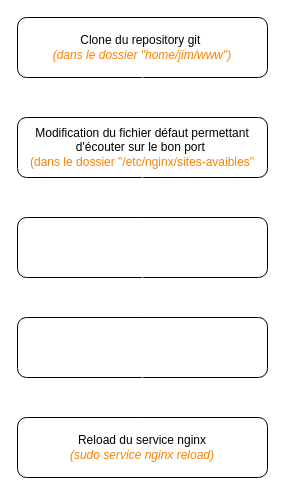
This 285x495 diagram has some shape labels left out. Here are the shapes that lost their labels. From the top down, the box of each, then its label:
(16, 216, 268, 278): Lancement du site via pm2 (pm2 start app.js)
(16, 316, 268, 378): Obtention du certificat https (sudo certbot --nginx -d jim.evrard.fr)
